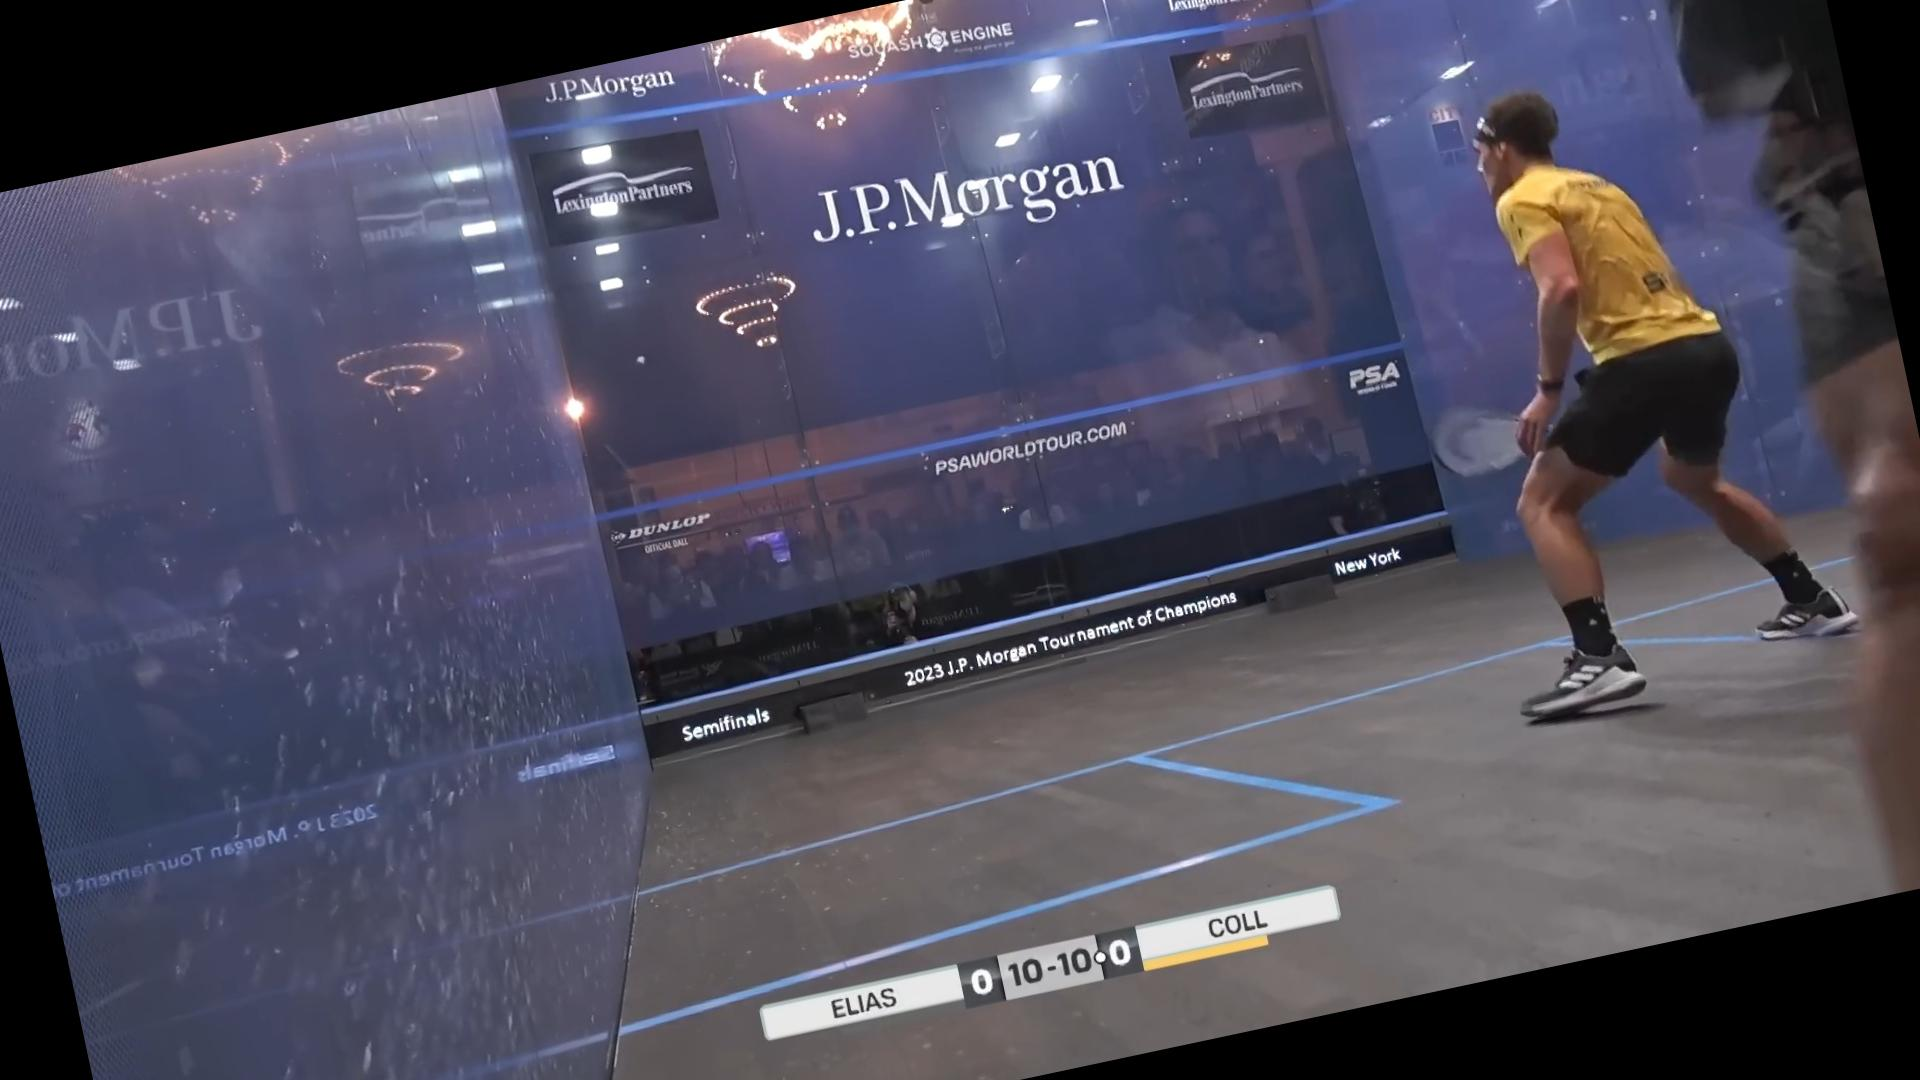Racket: (1419, 381, 1552, 492)
